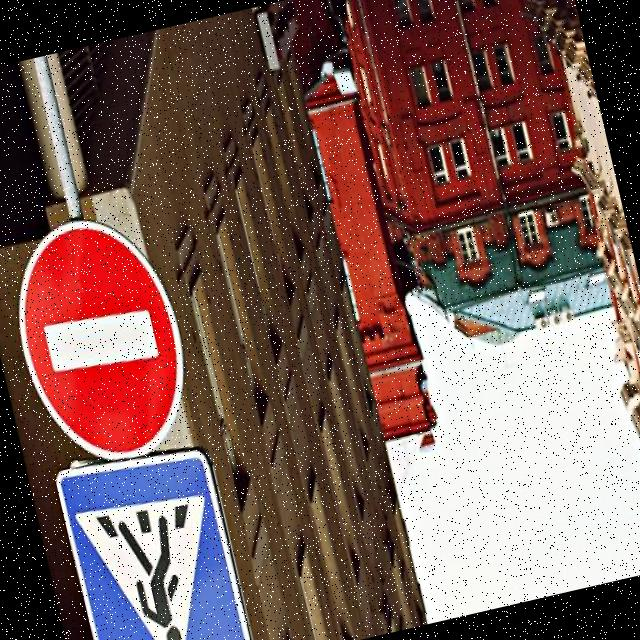do_not_enter: (0, 188, 207, 478)
